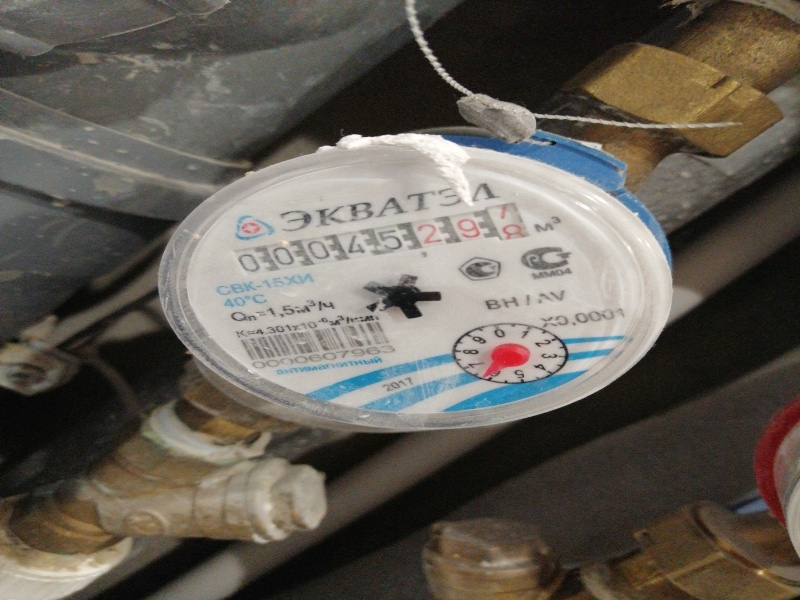meter: (217, 210, 537, 272)
